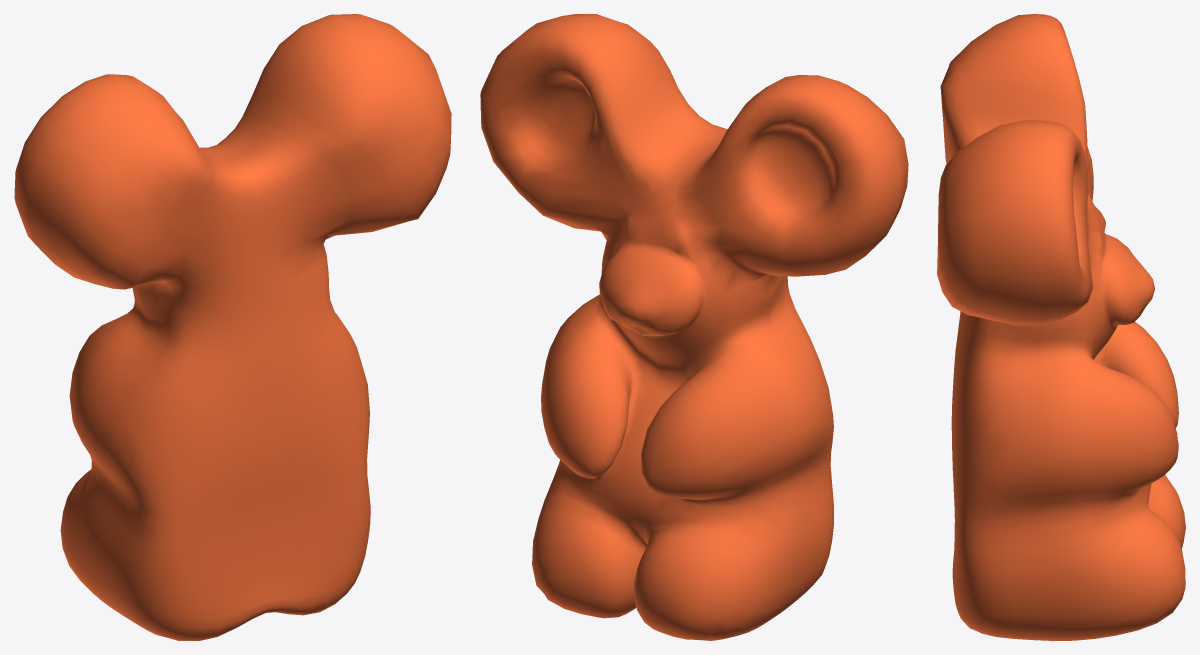
File: Golosina.fbx
3 renders of one model, left to right at view 1: azimuth 30°, elevation 25°; view 2: azimuth 150°, elevation 25°; view 3: azimuth 270°, elevation 25°, orthographic. The views are drawn at different scales.
Parts seen in each view (by area): view 1: golosina; view 2: golosina; view 3: golosina.
Boxes of the visible parts, x1,y1,x2,y2 form: golosina: [14, 14, 451, 640]; golosina: [480, 14, 908, 640]; golosina: [937, 14, 1185, 640].
Bounding box in the file's own units: 51.64 × 67.16 × 28.39.
